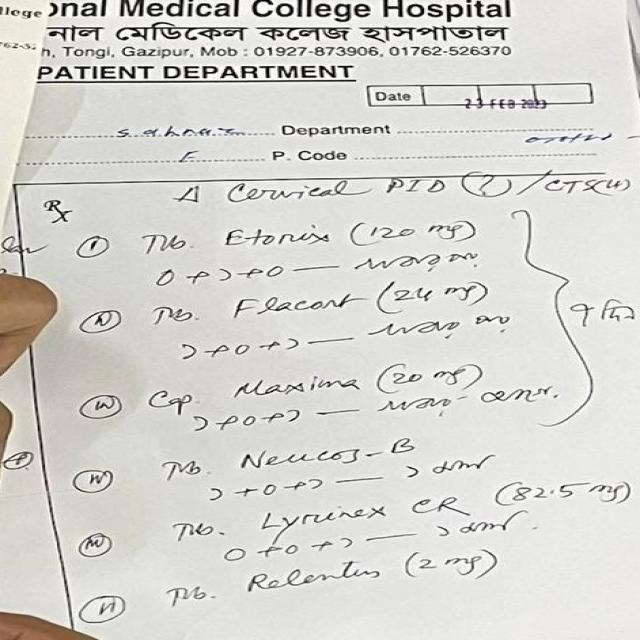Etorix: (222, 222, 335, 254)
Flacort: (225, 293, 360, 319)
Lyrinex CR: (247, 495, 467, 536)
Maxima: (217, 377, 367, 400)
Neucos-B: (232, 435, 423, 470)
Relentus: (241, 559, 386, 598)
